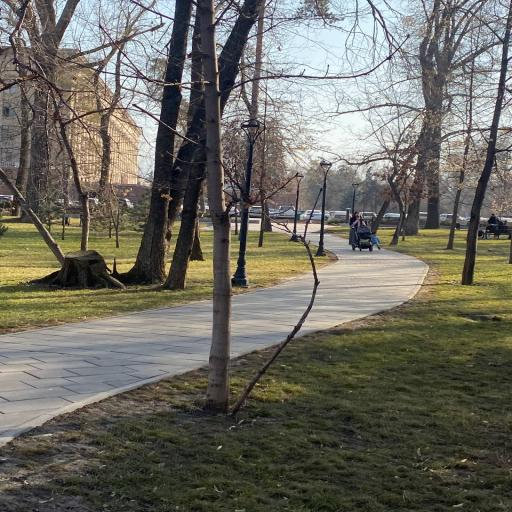shelf: (0, 301, 211, 444)
steps_down: (350, 226, 372, 251)
